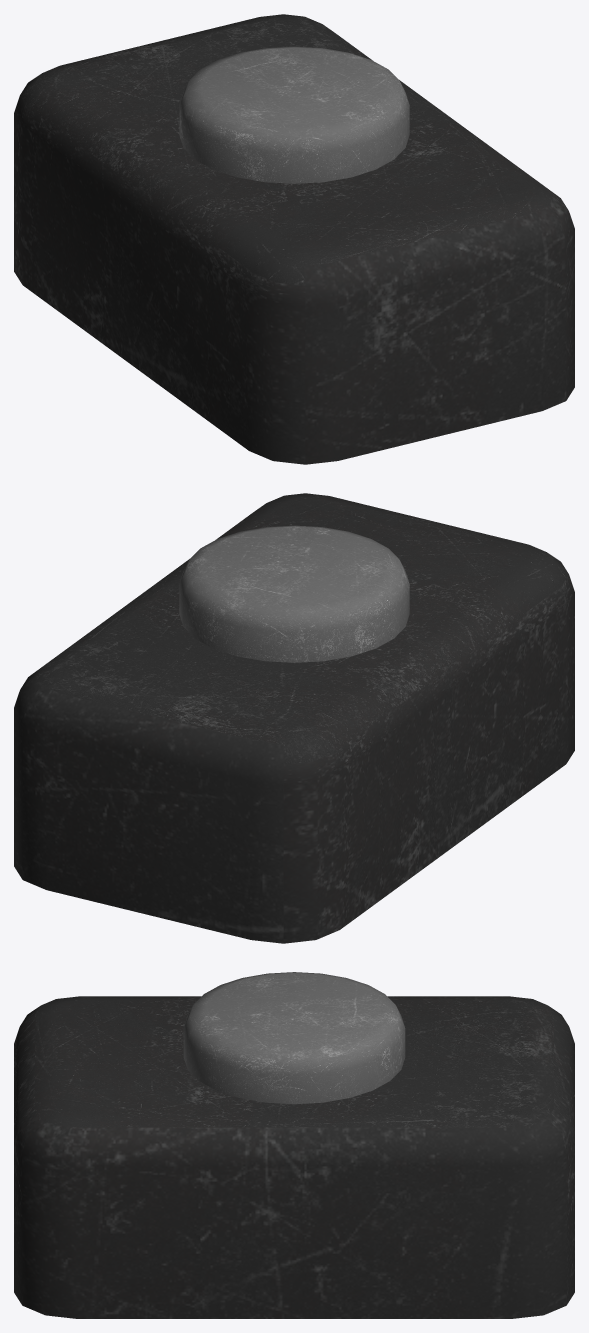
The model's file is F_OnOffSwitch_01.fbx.
3 renders of one model, top to bottom at view 1: azimuth 30°, elevation 25°; view 2: azimuth 150°, elevation 25°; view 3: azimuth 270°, elevation 25°, orthographic. The views are drawn at different scales.
Parts seen in each view (by area): view 1: F_OnOffSwitch_01; view 2: F_OnOffSwitch_01; view 3: F_OnOffSwitch_01.
Part boxes in pixels (x1=…): F_OnOffSwitch_01: x1=14, y1=14, x2=574, y2=464; F_OnOffSwitch_01: x1=14, y1=493, x2=574, y2=943; F_OnOffSwitch_01: x1=14, y1=972, x2=574, y2=1318.
Size of the model in its own units: 22 by 16.04 by 35.
1 material, 1 textured.
